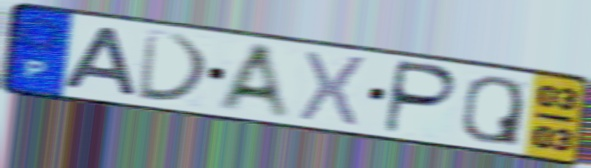A: (212, 41, 296, 123), (60, 25, 141, 99)
D: (135, 27, 215, 106)
P: (380, 58, 461, 137)
Q: (459, 73, 526, 149)
X: (295, 48, 371, 131)
